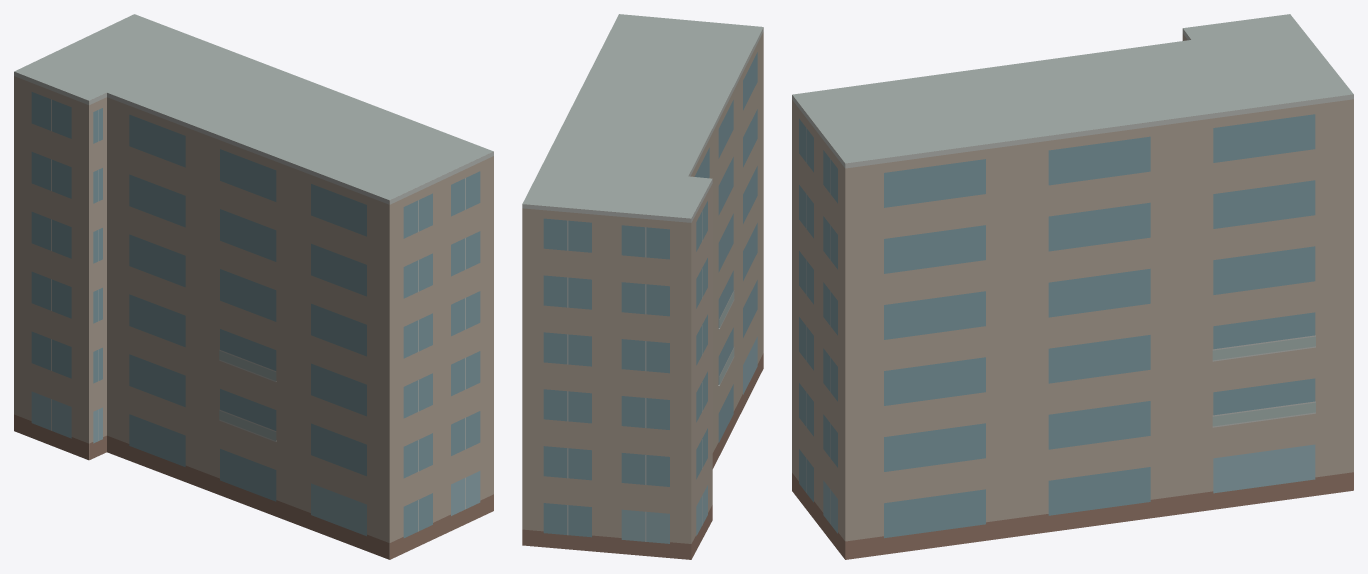
The model's file is survey-upis-32625793.glb.
The picture shows the model from 3 angles, left to right: view 1: azimuth 30°, elevation 25°; view 2: azimuth 150°, elevation 25°; view 3: azimuth 270°, elevation 25°; orthographic projection. The views are drawn at different scales.
Visible parts, largest first — view 1: survey-upis-32625793.tmp; view 2: survey-upis-32625793.tmp; view 3: survey-upis-32625793.tmp.
Boxes of the visible parts, x1,y1,x2,y2 form: survey-upis-32625793.tmp: [14, 14, 493, 559]; survey-upis-32625793.tmp: [522, 14, 763, 559]; survey-upis-32625793.tmp: [792, 14, 1353, 559].
Bounding box in the file's own units: 15.79 × 19.5 × 25.06.
